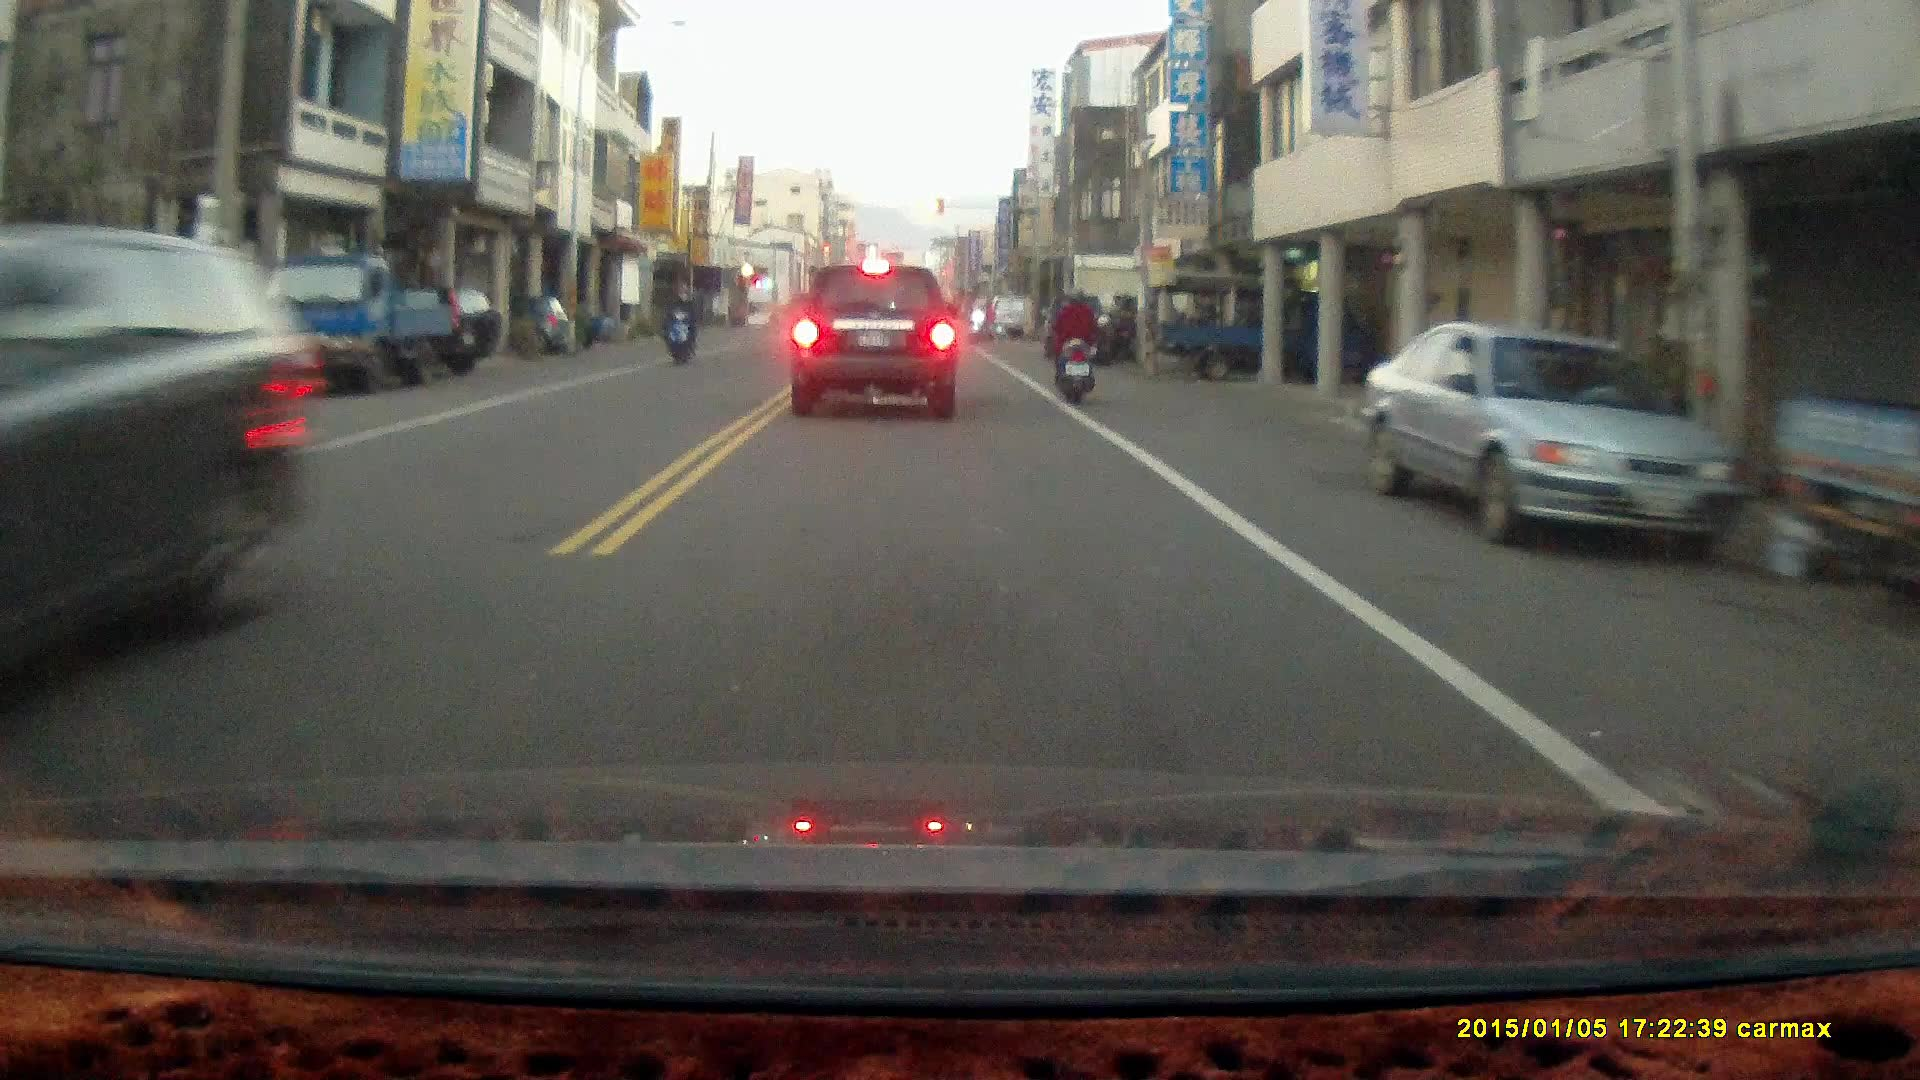rider: (1050, 281, 1099, 402), (663, 275, 702, 359), (966, 291, 1004, 339)
vehicle: (1, 222, 325, 725), (1361, 319, 1747, 571), (1151, 260, 1391, 376), (792, 259, 962, 422), (265, 245, 456, 381)
